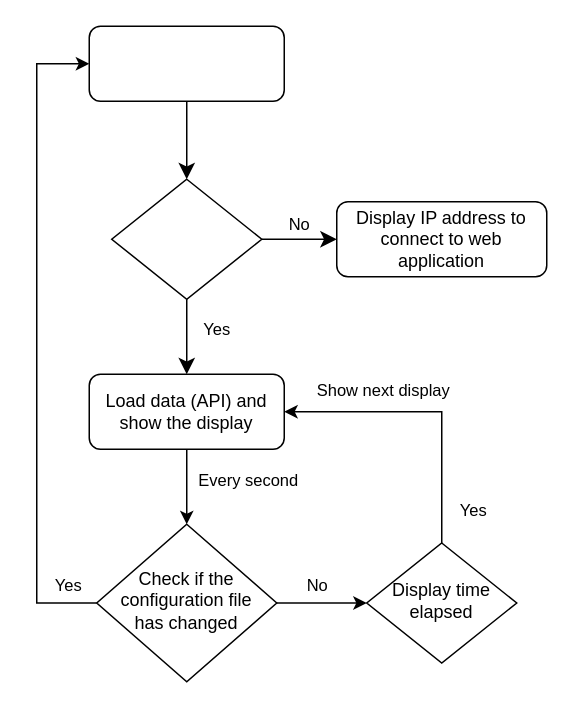
Some shapes in this 573 by 708 pixel diagram are drawn without their labels. The centre of each missing label's shape, as x and y in pixels:
"Get the first display in the configuration file" goes at (186,63).
"Is there a display" goes at (186,238).
